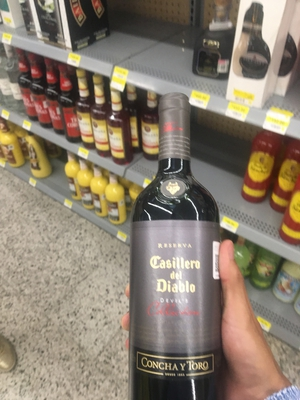casillero del diablo devils collection rojo: (128, 100, 235, 400)
